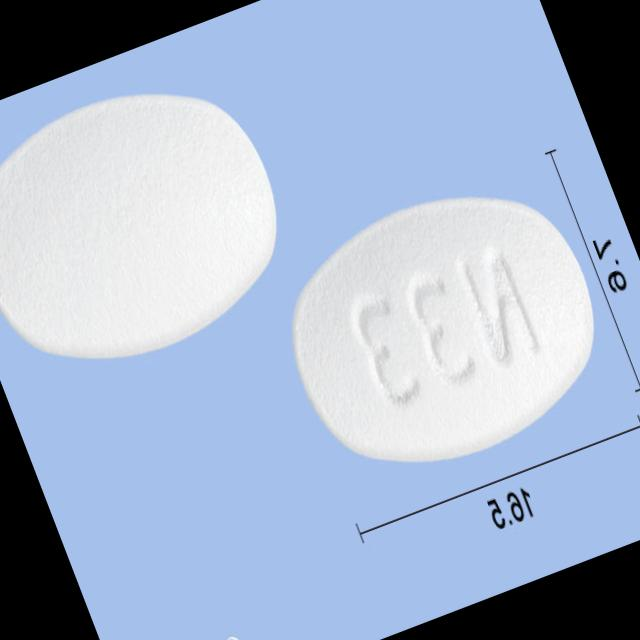Moxiclen Tab: (258, 155, 630, 501), (0, 50, 313, 398)
